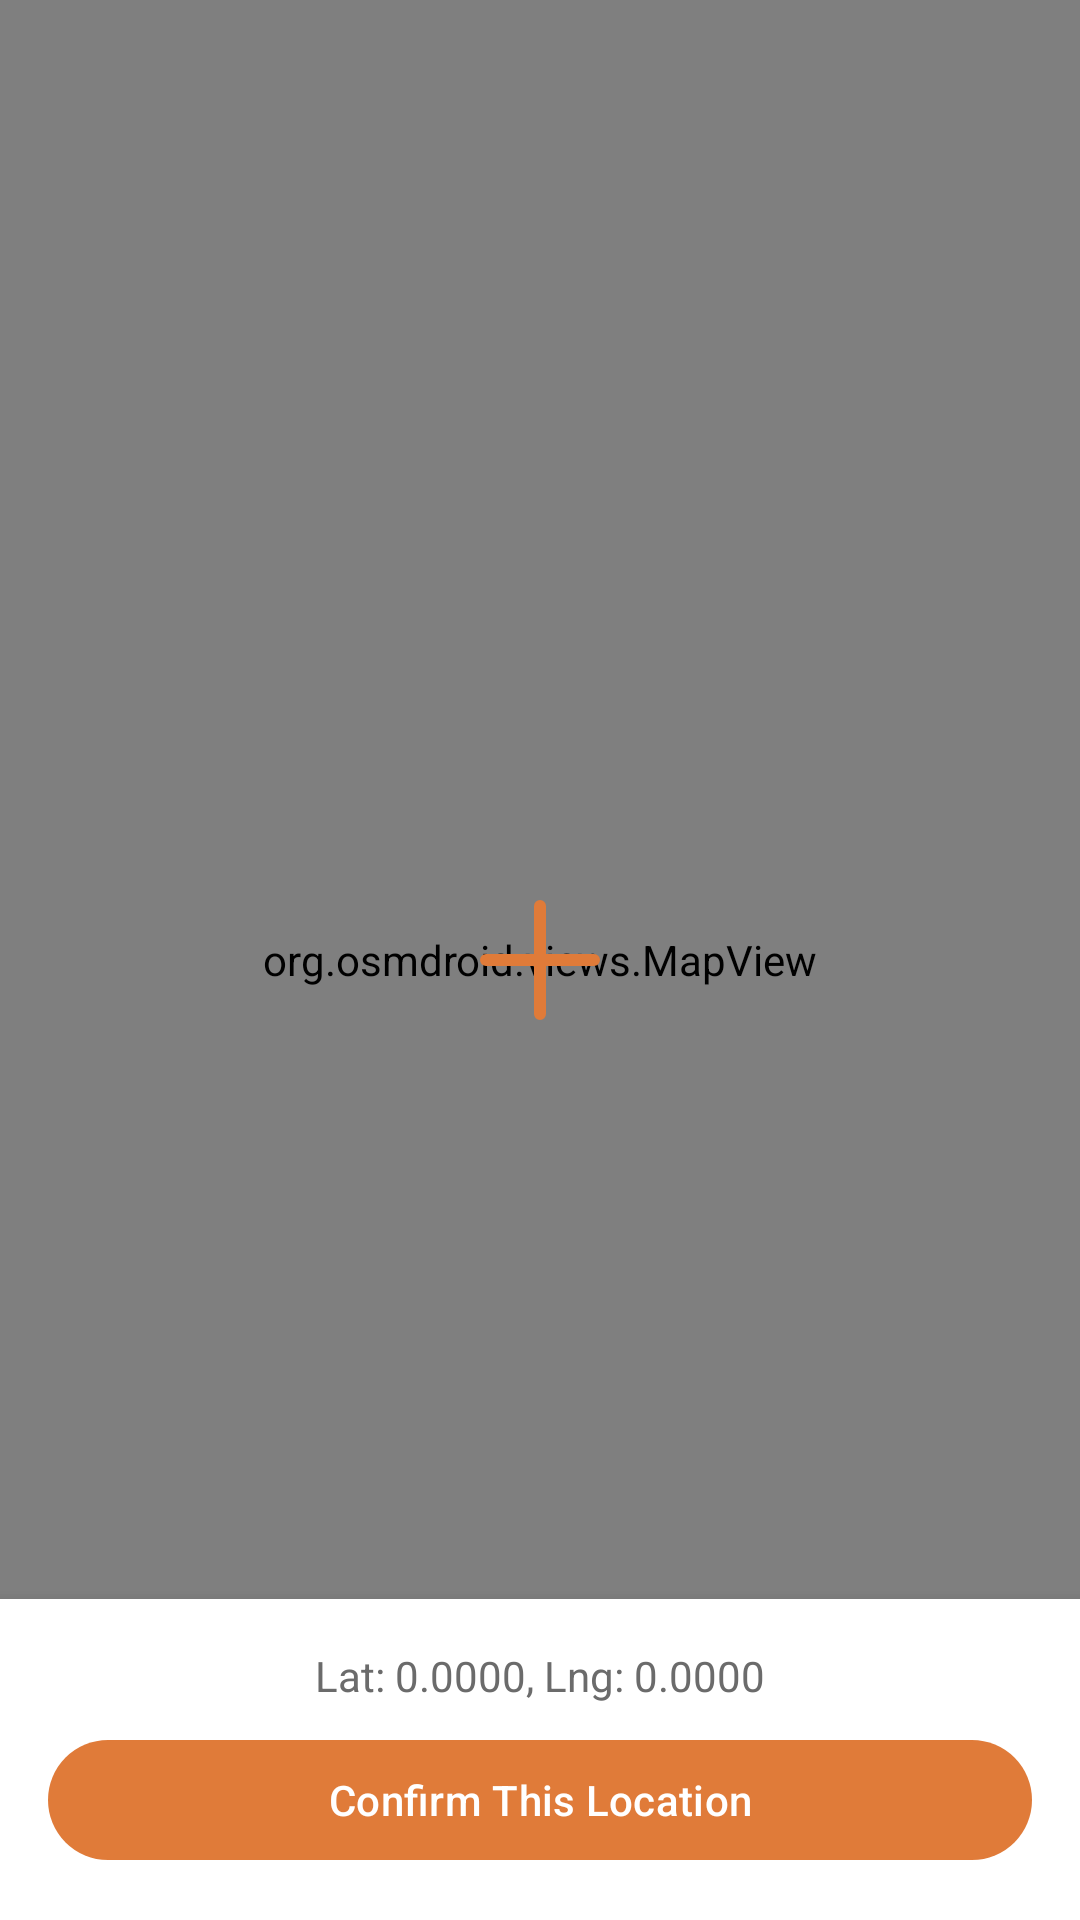

Named icons in this screenshot (1080w x 1920h) and their centers, (x=x, y=y):
Location crosshair: (x=544, y=960)
